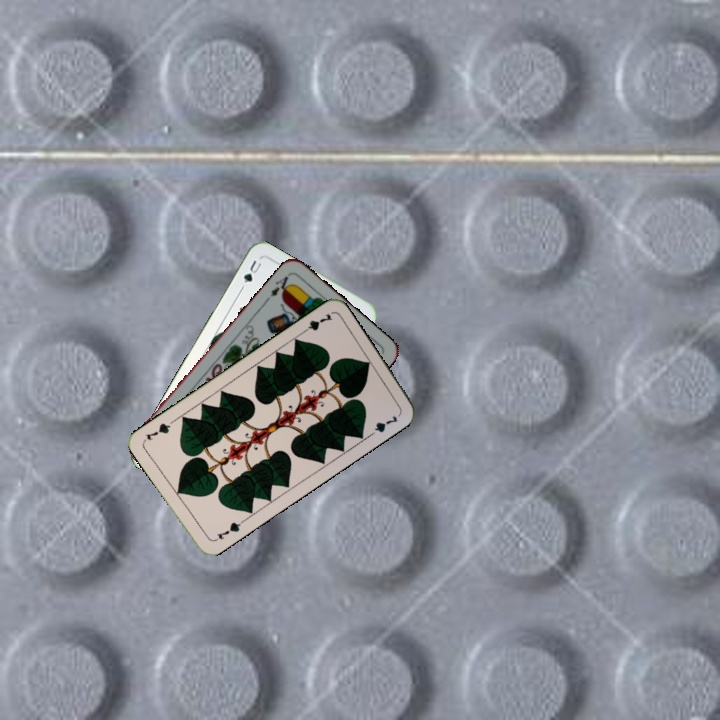EA: (266, 270, 294, 299)
G7: (297, 309, 335, 337), (210, 516, 246, 544)
GU: (239, 256, 264, 286)
